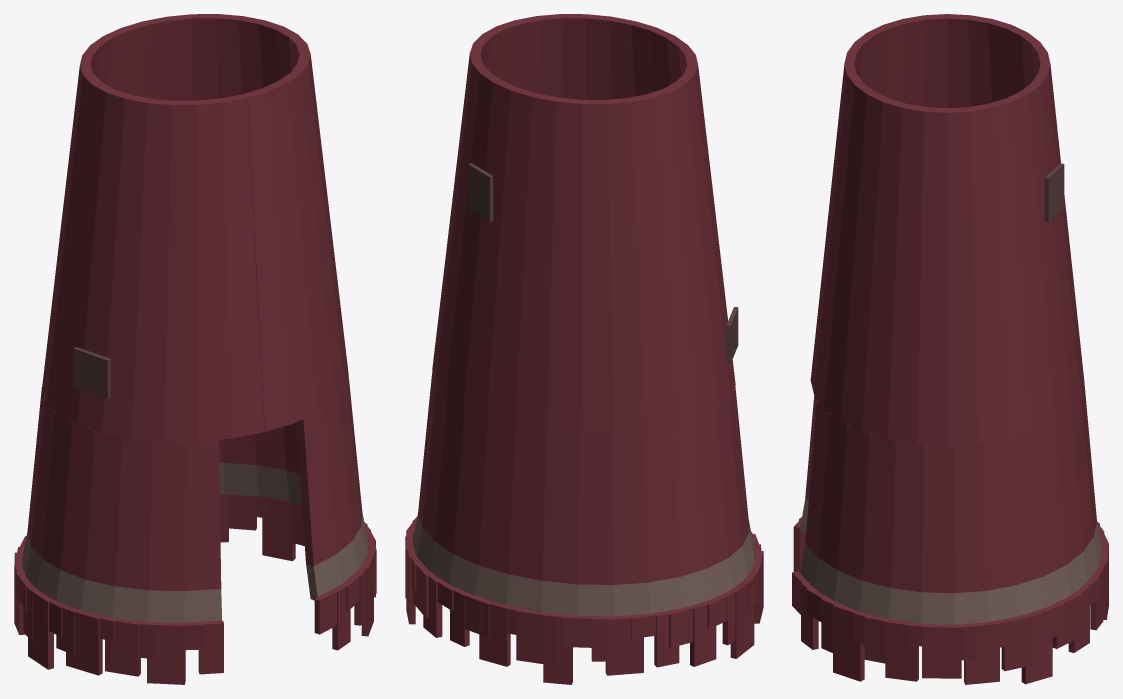
Rendered from SinSkirt.fbx.
3 renders of one model, left to right at view 1: azimuth 30°, elevation 25°; view 2: azimuth 150°, elevation 25°; view 3: azimuth 270°, elevation 25°, orthographic.
Visible parts, largest first — view 1: SinSkirt; view 2: SinSkirt; view 3: SinSkirt.
Boxes of the visible parts, x1,y1,x2,y2 form: SinSkirt: (14,14,376,684); SinSkirt: (405,14,763,684); SinSkirt: (792,14,1108,684).
Size of the model in its own units: 29.79 by 49.8 by 25.84.
